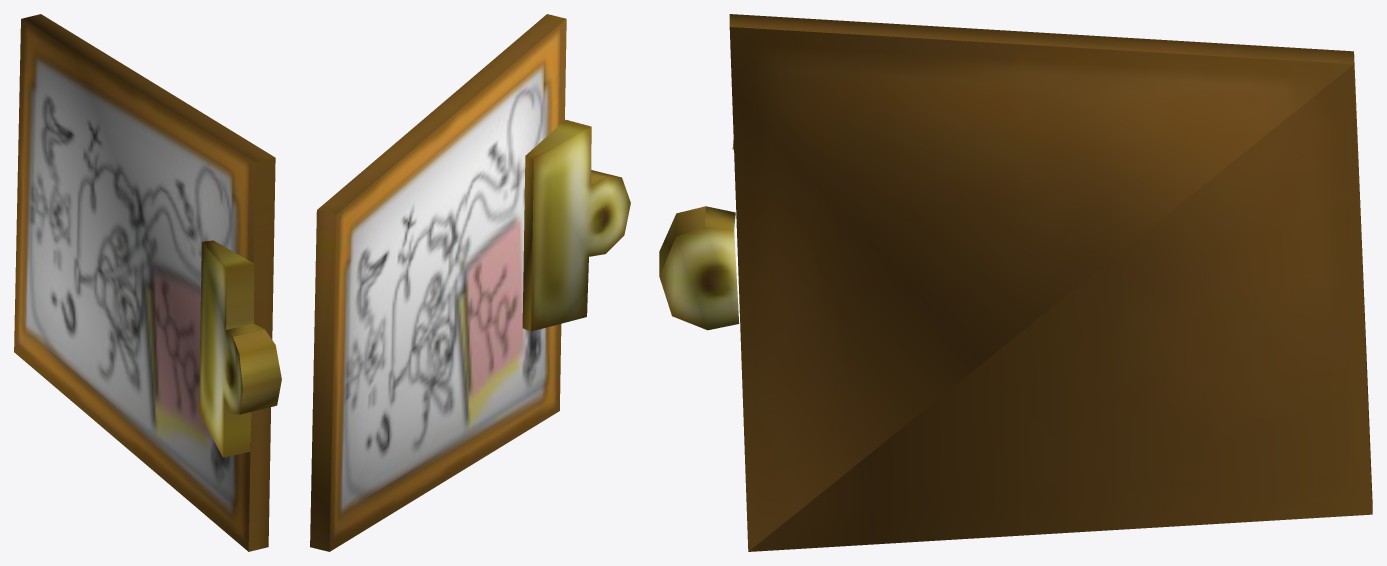
File: clipboard.glb
3 renders of one model, left to right at view 1: azimuth 30°, elevation 25°; view 2: azimuth 150°, elevation 25°; view 3: azimuth 270°, elevation 25°, orthographic. The views are drawn at different scales.
Visible parts, largest first — view 1: acs_clipboard; view 2: acs_clipboard; view 3: acs_clipboard.
Boxes of the visible parts, x1,y1,x2,y2 form: acs_clipboard: [14, 14, 281, 551]; acs_clipboard: [310, 14, 630, 551]; acs_clipboard: [659, 14, 1372, 551].
Size of the model in its own units: 0.1614 by 1.03 by 1.27.
1 material, 1 textured.
